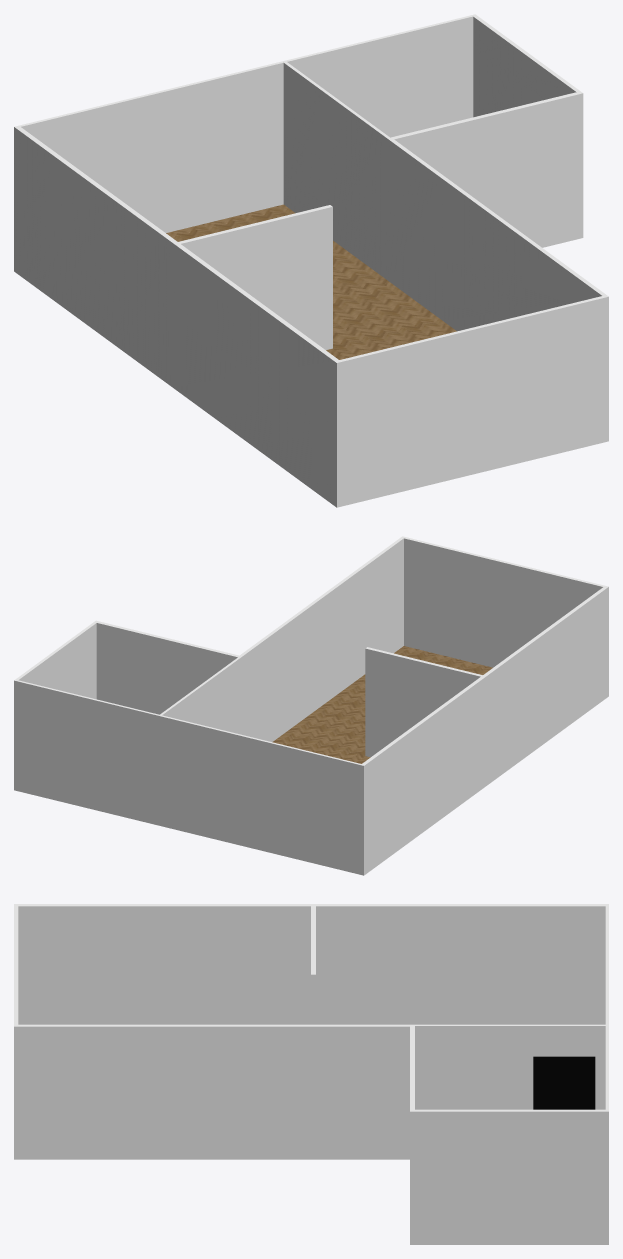
File: House.fbx
3 views of the same model, one above another, from view 1: azimuth 30°, elevation 25°; view 2: azimuth 150°, elevation 25°; view 3: azimuth 270°, elevation 25° (orthographic). The views are drawn at different scales.
Parts seen in each view (by area): view 1: Floor, WoodenFloor; view 2: Floor, WoodenFloor; view 3: Floor.
Part boxes in pixels (bbox=[...]): Floor: bbox=[14, 14, 608, 507]; WoodenFloor: bbox=[166, 204, 456, 359]; Floor: bbox=[14, 536, 608, 875]; WoodenFloor: bbox=[272, 646, 492, 763]; Floor: bbox=[14, 904, 608, 1244].
Size of the model in its own units: 1980 by 593 by 2400.
